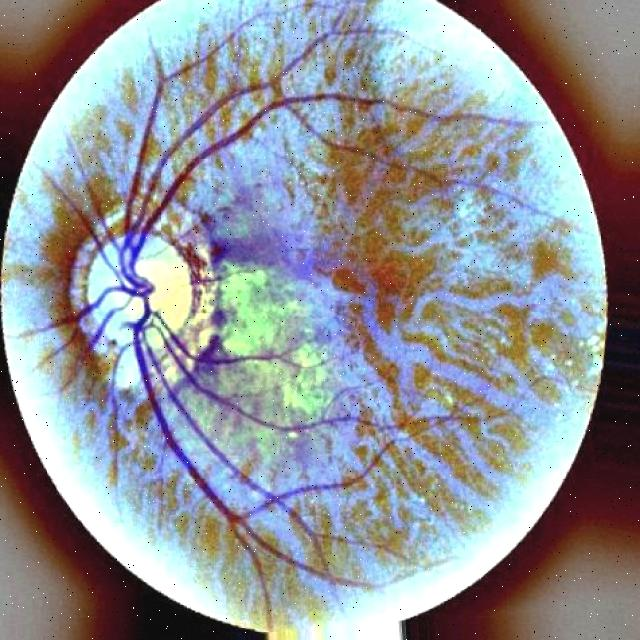Optic Disk: (91, 239, 202, 389), (136, 239, 191, 331)
